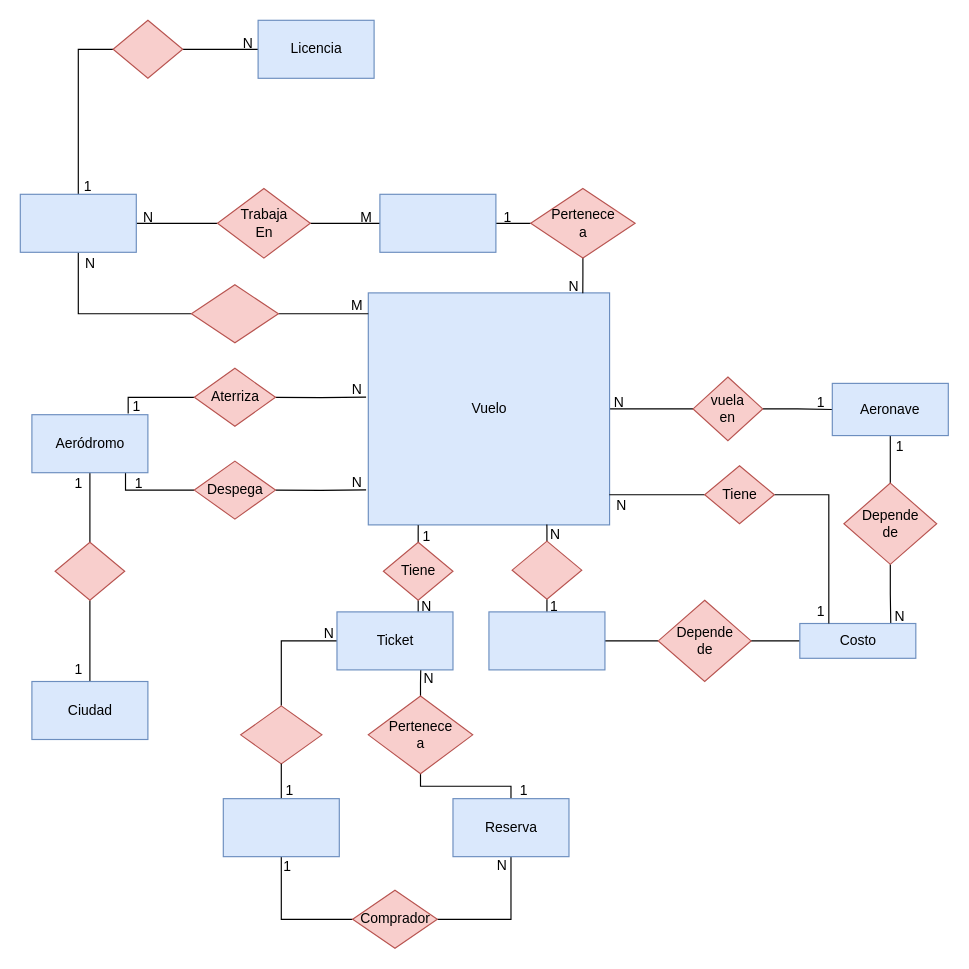
Some shapes in this 969 by 969 pixel diagram are drawn without their labels. The centre of each missing label's shape, as x and y in pixels:
"Compania" goes at [437,222].
"está en" goes at [89,570].
"Pasajero" goes at [281,734].
"Persona" goes at [280,827].
"Posee" goes at [147,48].
"Ruta" goes at [546,640].
"Sigue" goes at [546,569].
"Trabajador" goes at [77,222].
"Tripulante" goes at [234,313].
